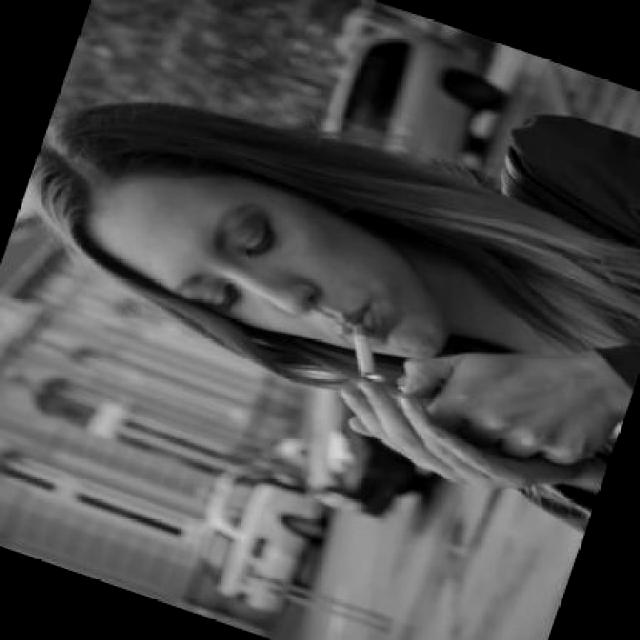cigarette: (332, 317, 397, 388)
